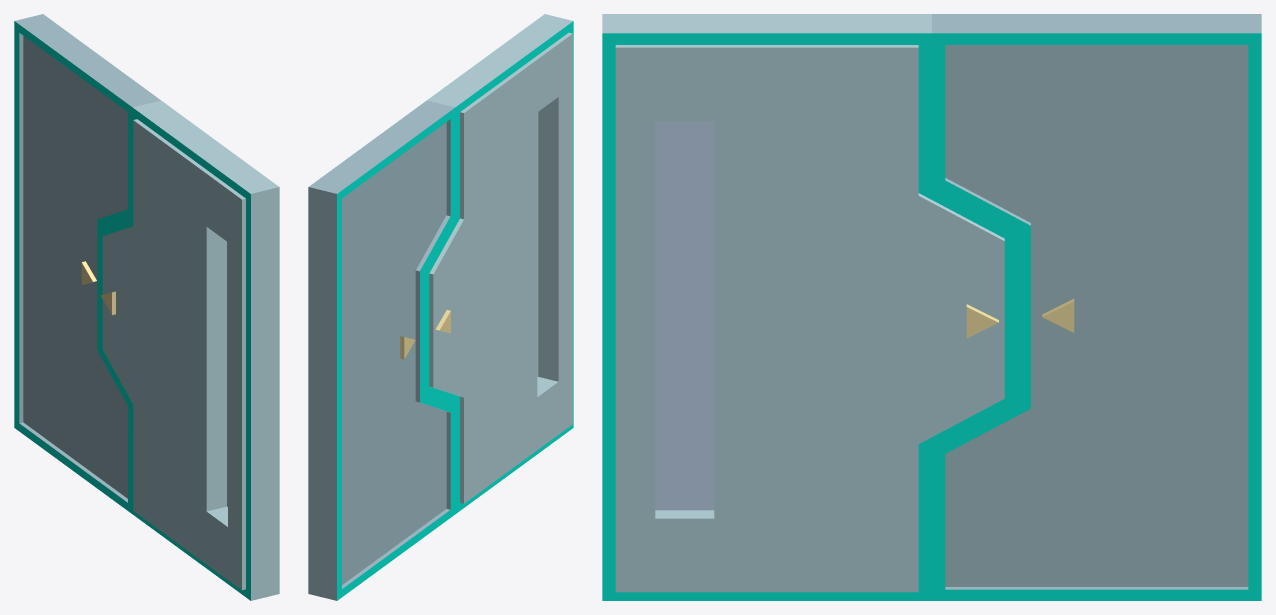
The model's file is door-01c.fbx.
3 renders of one model, left to right at view 1: azimuth 30°, elevation 25°; view 2: azimuth 150°, elevation 25°; view 3: azimuth 270°, elevation 25°, orthographic. The views are drawn at different scales.
Visible parts, largest first — view 1: door-01c-L, door-01c-R; view 2: door-01c-R, door-01c-L; view 3: door-01c-L, door-01c-R.
Part boxes in pixels (x1,y1,x2,y2): door-01c-L: (100,100,279,600); door-01c-R: (14,14,160,513); door-01c-R: (308,100,455,600); door-01c-L: (424,14,573,513); door-01c-L: (602,14,1017,600); door-01c-R: (932,14,1261,600).
Bounding box in the file's own units: 11 × 95 × 100.
